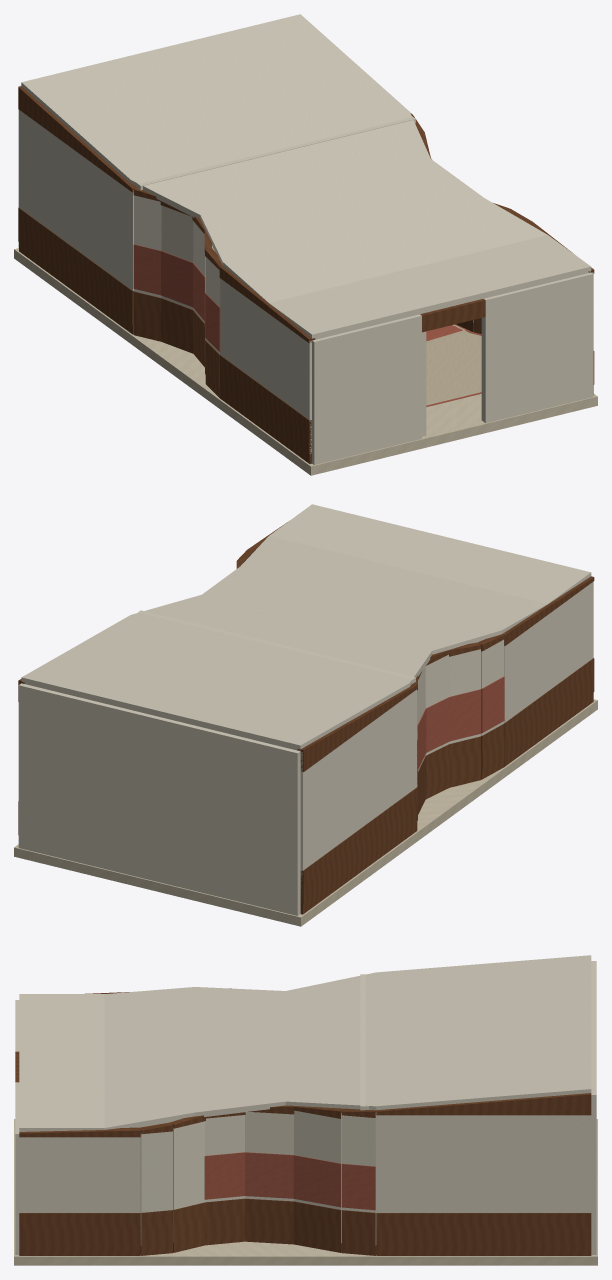
File: shell.glb
The picture shows the model from 3 angles, top to bottom: view 1: azimuth 30°, elevation 25°; view 2: azimuth 150°, elevation 25°; view 3: azimuth 270°, elevation 25°; orthographic projection.
Parts seen in each view (by area): view 1: SUI_Runtime_ivory_enamel, SUI_Runtime_warm_walnut, SUI_Runtime_warm_stone, SUI_Runtime_clay_weave, SUI_Runtime_oatmeal_weave; view 2: SUI_Runtime_ivory_enamel, SUI_Runtime_warm_walnut, SUI_Runtime_warm_stone, SUI_Runtime_clay_weave; view 3: SUI_Runtime_ivory_enamel, SUI_Runtime_warm_walnut, SUI_Runtime_warm_stone, SUI_Runtime_clay_weave.
Part boxes in pixels (x1,y1,x2,y2): SUI_Runtime_ivory_enamel: [18, 14, 593, 464]; SUI_Runtime_warm_walnut: [18, 86, 594, 463]; SUI_Runtime_warm_stone: [14, 248, 597, 475]; SUI_Runtime_clay_weave: [133, 244, 481, 406]; SUI_Runtime_oatmeal_weave: [212, 245, 481, 405]; SUI_Runtime_ivory_enamel: [18, 504, 593, 915]; SUI_Runtime_warm_walnut: [18, 522, 594, 914]; SUI_Runtime_warm_stone: [14, 699, 597, 926]; SUI_Runtime_clay_weave: [417, 676, 504, 783]; SUI_Runtime_ivory_enamel: [15, 955, 596, 1254]; SUI_Runtime_warm_walnut: [15, 988, 591, 1255]; SUI_Runtime_warm_stone: [14, 1119, 597, 1265]; SUI_Runtime_clay_weave: [204, 1152, 375, 1210].
Bounding box in the file's own units: 7.2 × 4.26 × 12.9.
8 materials, 7 textured.
